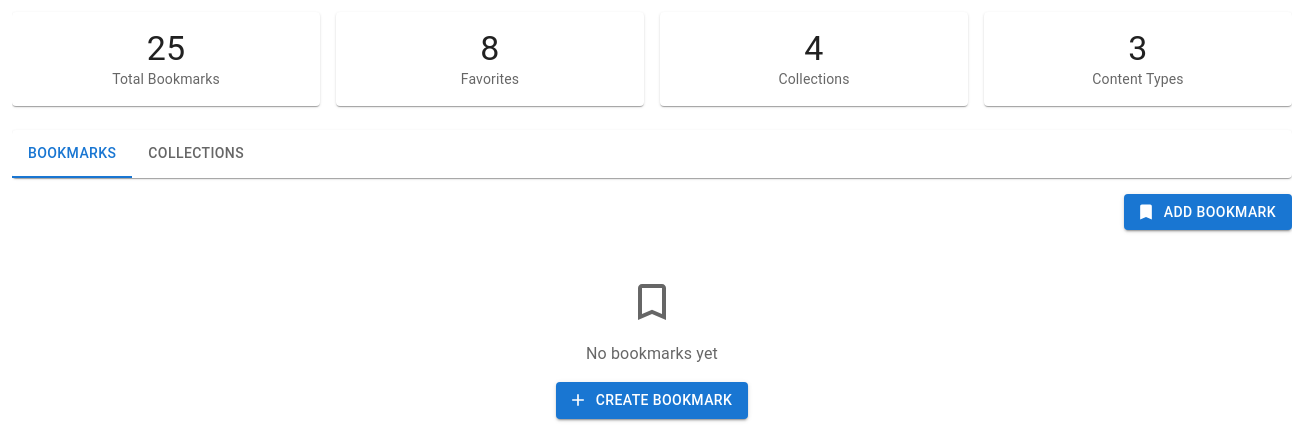
Test: BookmarkManager Component › Collections Display › should show empty state when no collections
Click the tab "Collections". click: x=196, y=154
box: [132,130,260,178]
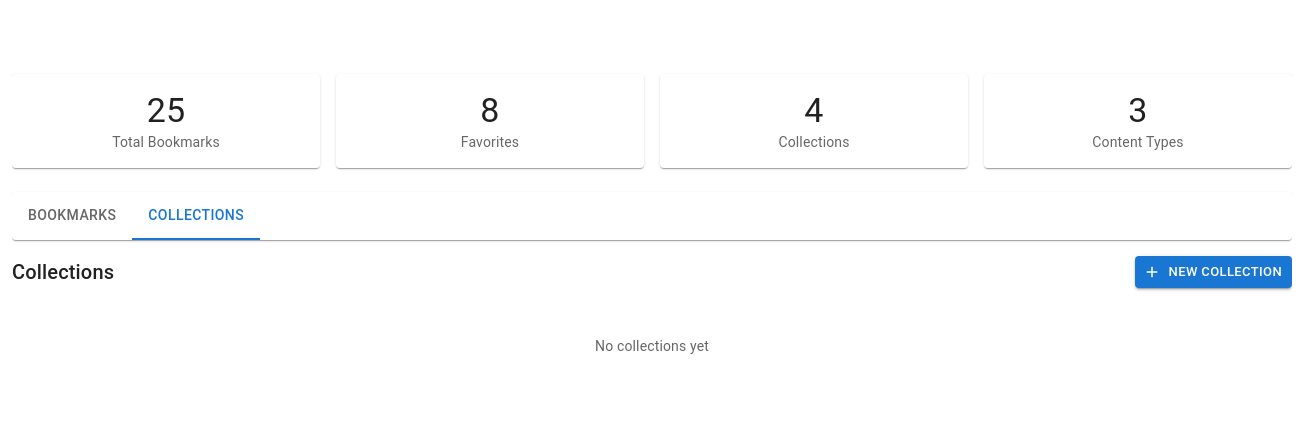
Expected: the text "No collections yet" is shown, [595,338,709,354]
